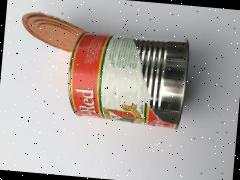metal: (4, 5, 216, 162)
